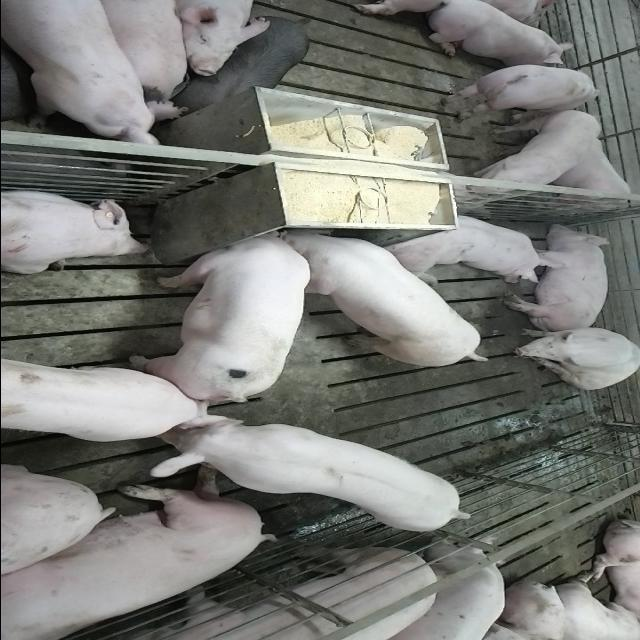Feeding: (127, 220, 310, 397), (280, 230, 496, 372)
Lateral_lying: (5, 474, 278, 636), (500, 224, 612, 332)
Sitting: (503, 325, 638, 390)
Standing: (0, 544, 445, 640), (150, 418, 480, 538), (0, 2, 182, 148), (0, 354, 215, 444), (386, 539, 510, 640), (182, 18, 312, 114), (466, 108, 602, 194), (89, 0, 192, 104), (450, 60, 608, 114)
Sternal_lying: (0, 186, 150, 274), (382, 208, 555, 280), (425, 3, 575, 68)
